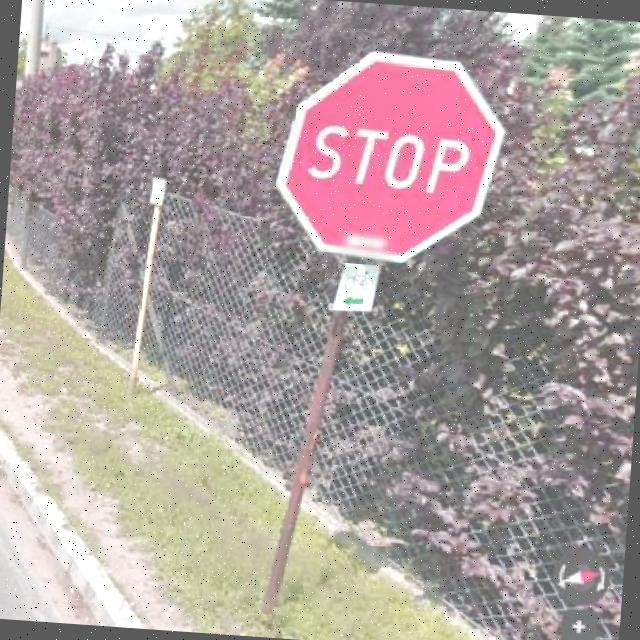Stop: (268, 44, 510, 272)
